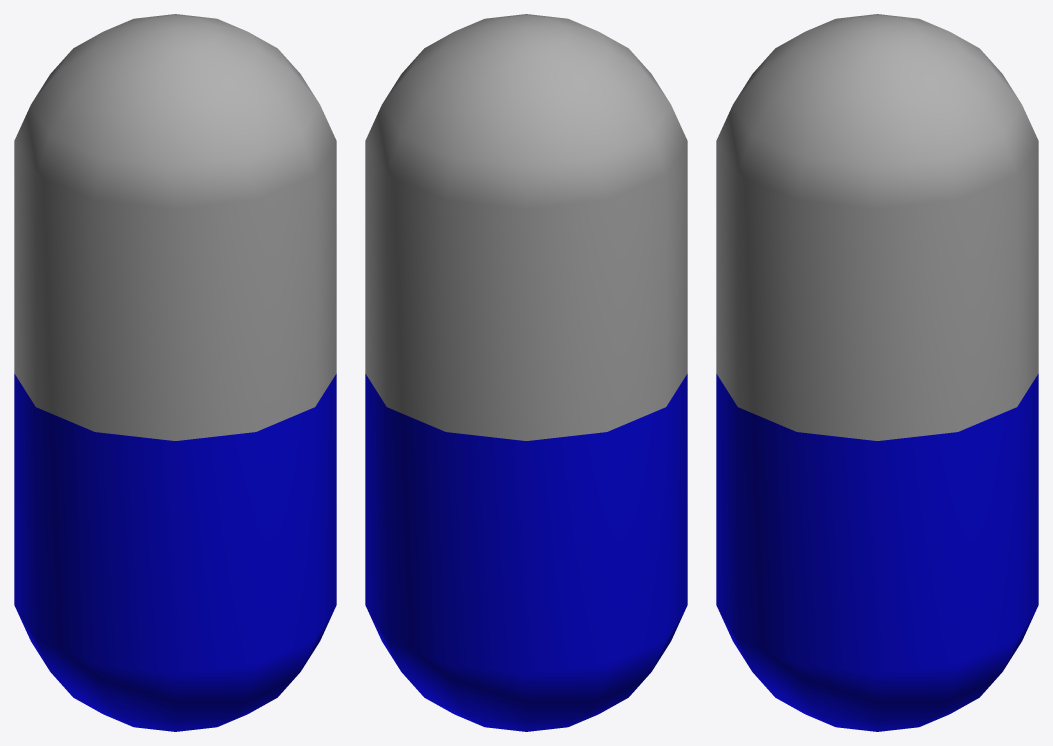
File: pill_1.fbx
3 views of the same model, side by side, from view 1: azimuth 30°, elevation 25°; view 2: azimuth 150°, elevation 25°; view 3: azimuth 270°, elevation 25° (orthographic).
Parts seen in each view (by area): view 1: pill1; view 2: pill1; view 3: pill1.
Part boxes in pixels (x1,y1,x2,y2): pill1: (14,14,336,731); pill1: (365,14,687,731); pill1: (716,14,1038,731).
Bounding box in the file's own units: 1.93 × 4.55 × 1.93.
